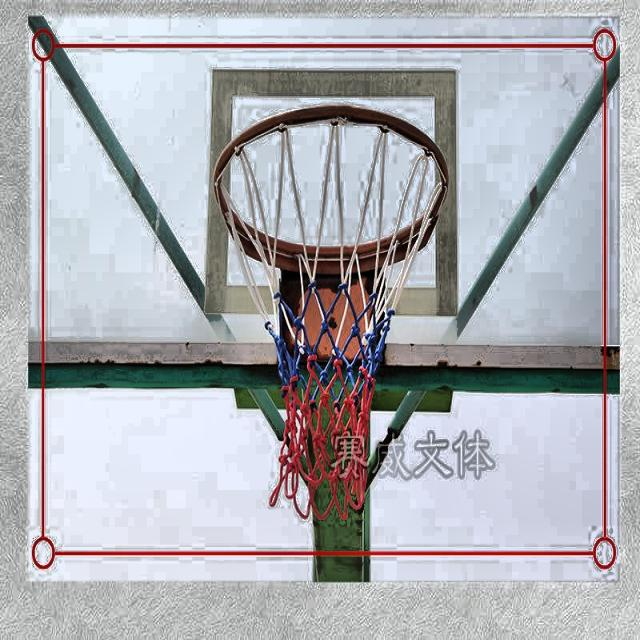rim: (214, 102, 447, 514)
